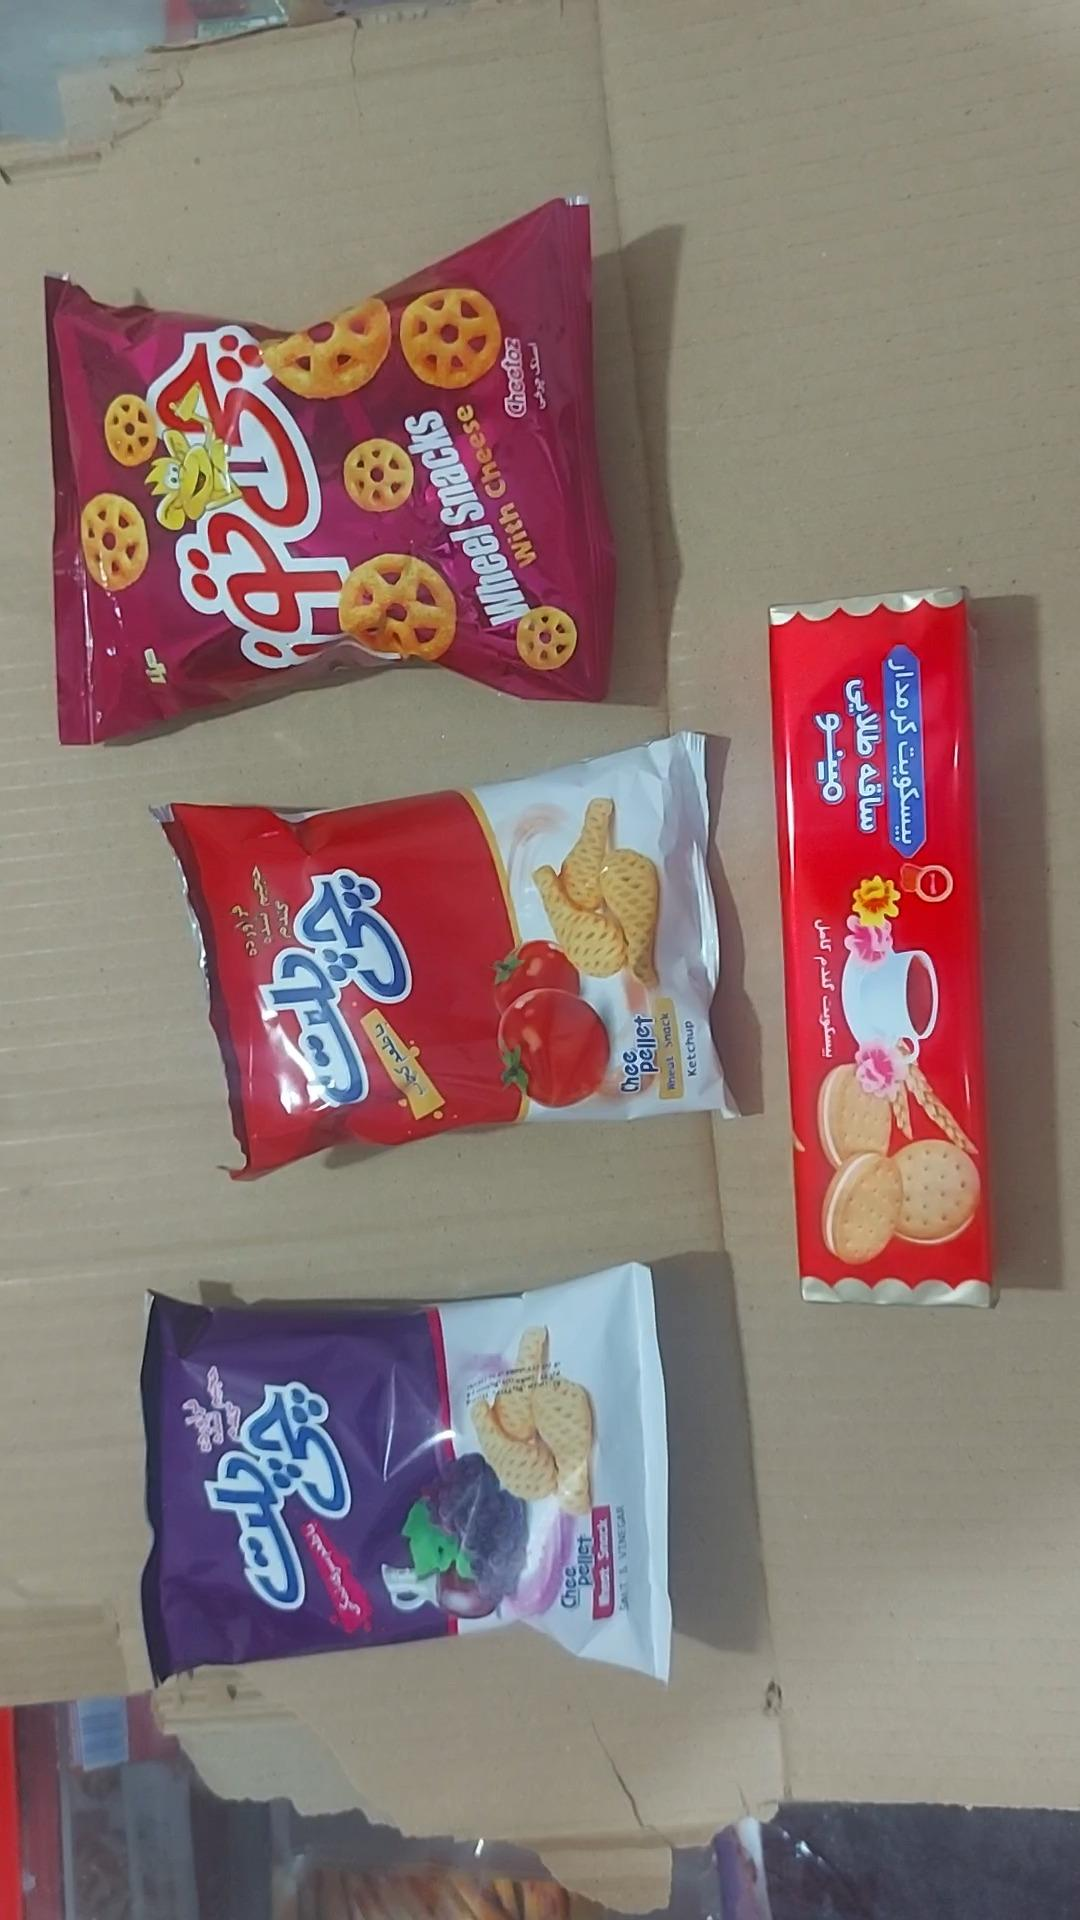Chee pellet ketchup: (152, 732, 732, 1182)
Chee pellet vinegar: (138, 1263, 673, 1685)
Cheetoz wheelsnack: (44, 200, 618, 748)
Minoo cream biscuit: (767, 589, 1000, 1313)
